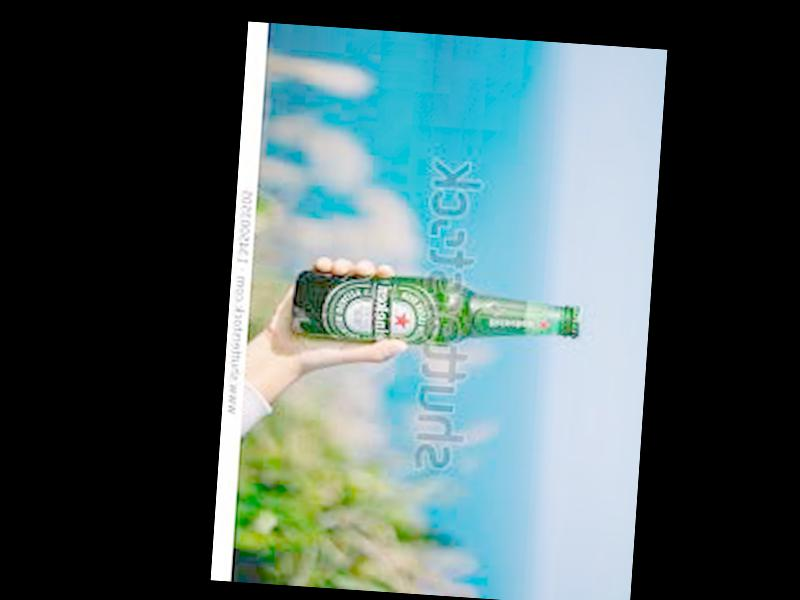Beer: (289, 269, 583, 357)
